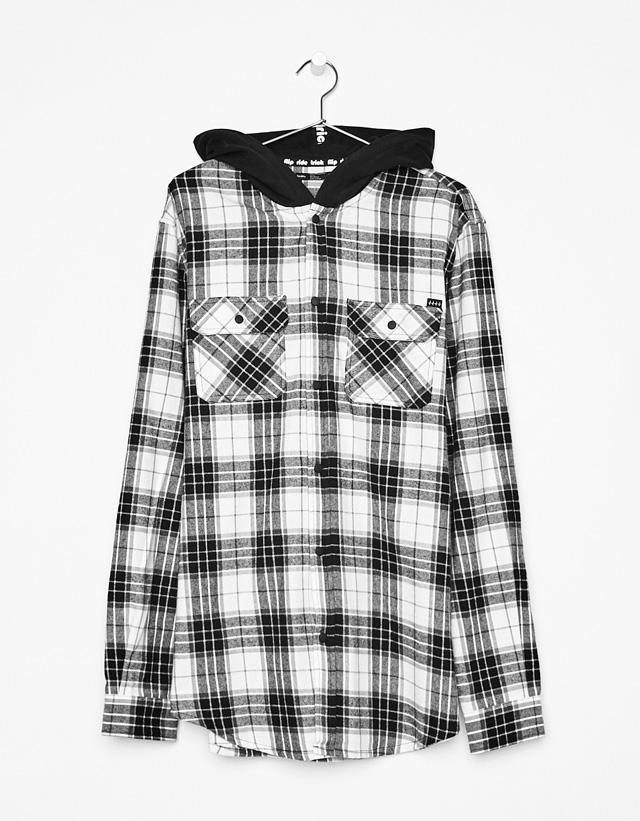teeshirt: (107, 120, 558, 780)
